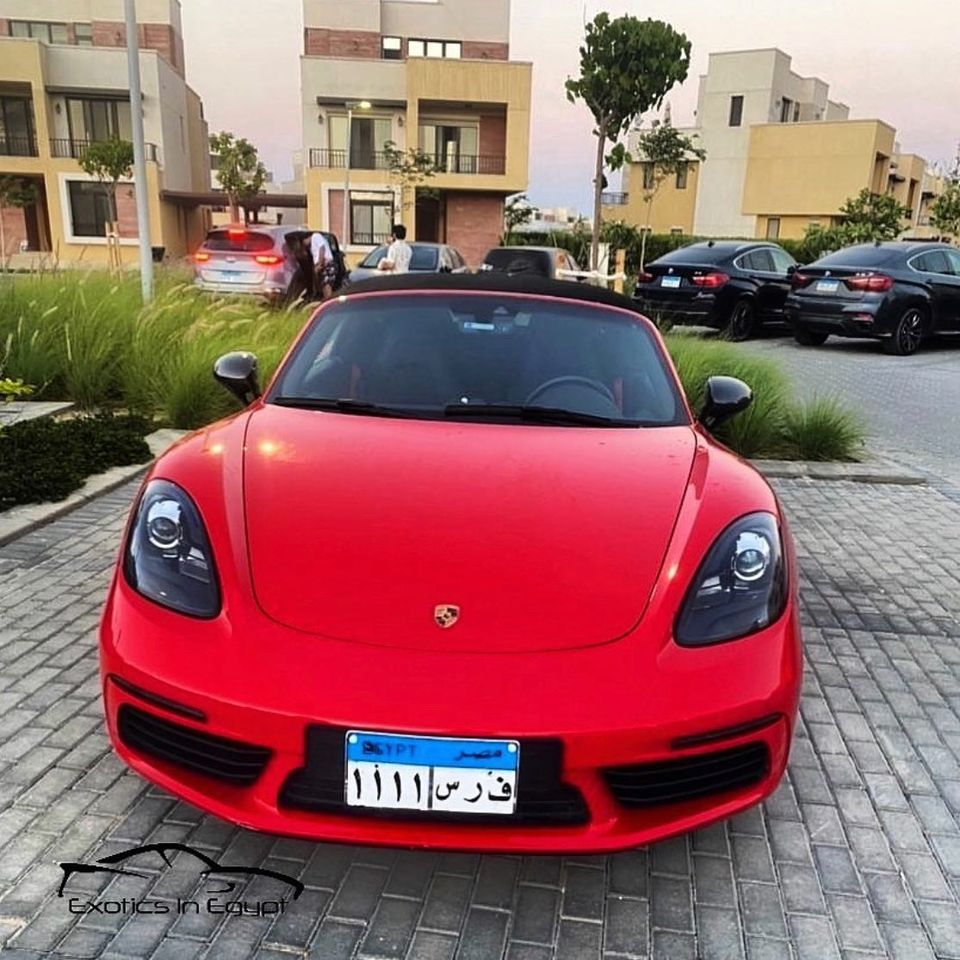carpl: (345, 758, 515, 808)
